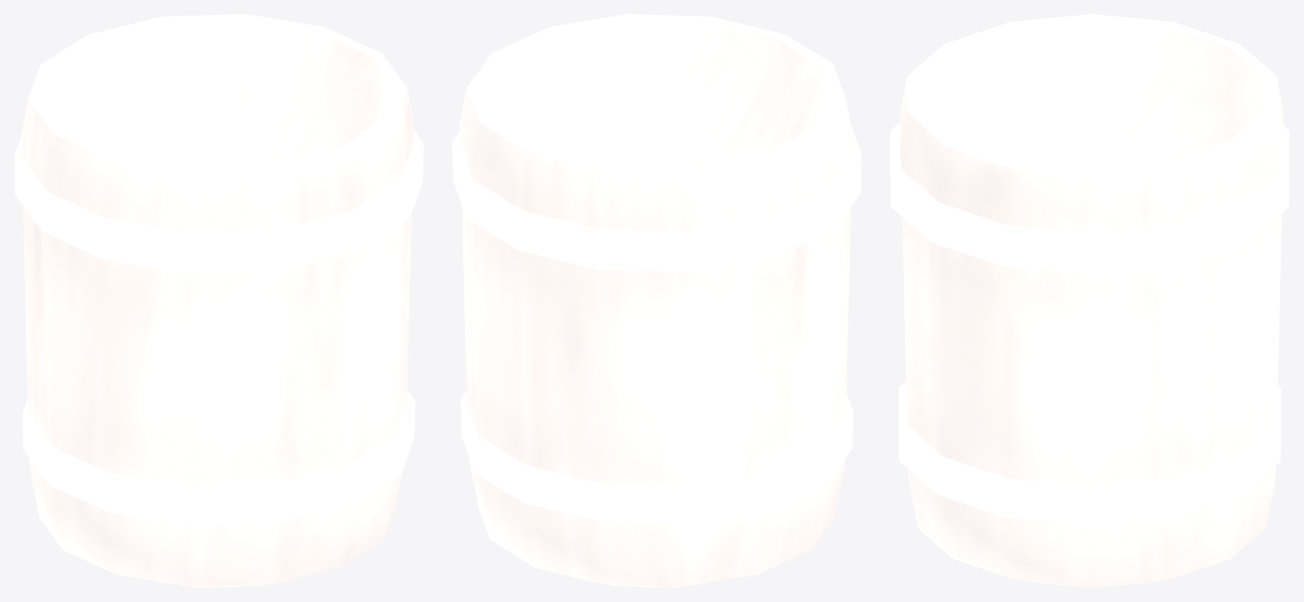
Rendered from tankard.glb.
The picture shows the model from 3 angles, left to right: view 1: azimuth 30°, elevation 25°; view 2: azimuth 150°, elevation 25°; view 3: azimuth 270°, elevation 25°; orthographic projection.
Visible parts, largest first — view 1: defaultMaterial.004; view 2: defaultMaterial.004; view 3: defaultMaterial.004.
Boxes of the visible parts, left/top/right/bottom form: defaultMaterial.004: left=14, top=14, right=423, bottom=587; defaultMaterial.004: left=452, top=14, right=861, bottom=587; defaultMaterial.004: left=890, top=14, right=1289, bottom=587.
Size of the model in its own units: 0.4858 by 0.5694 by 0.4736.
1 material, 1 textured.
